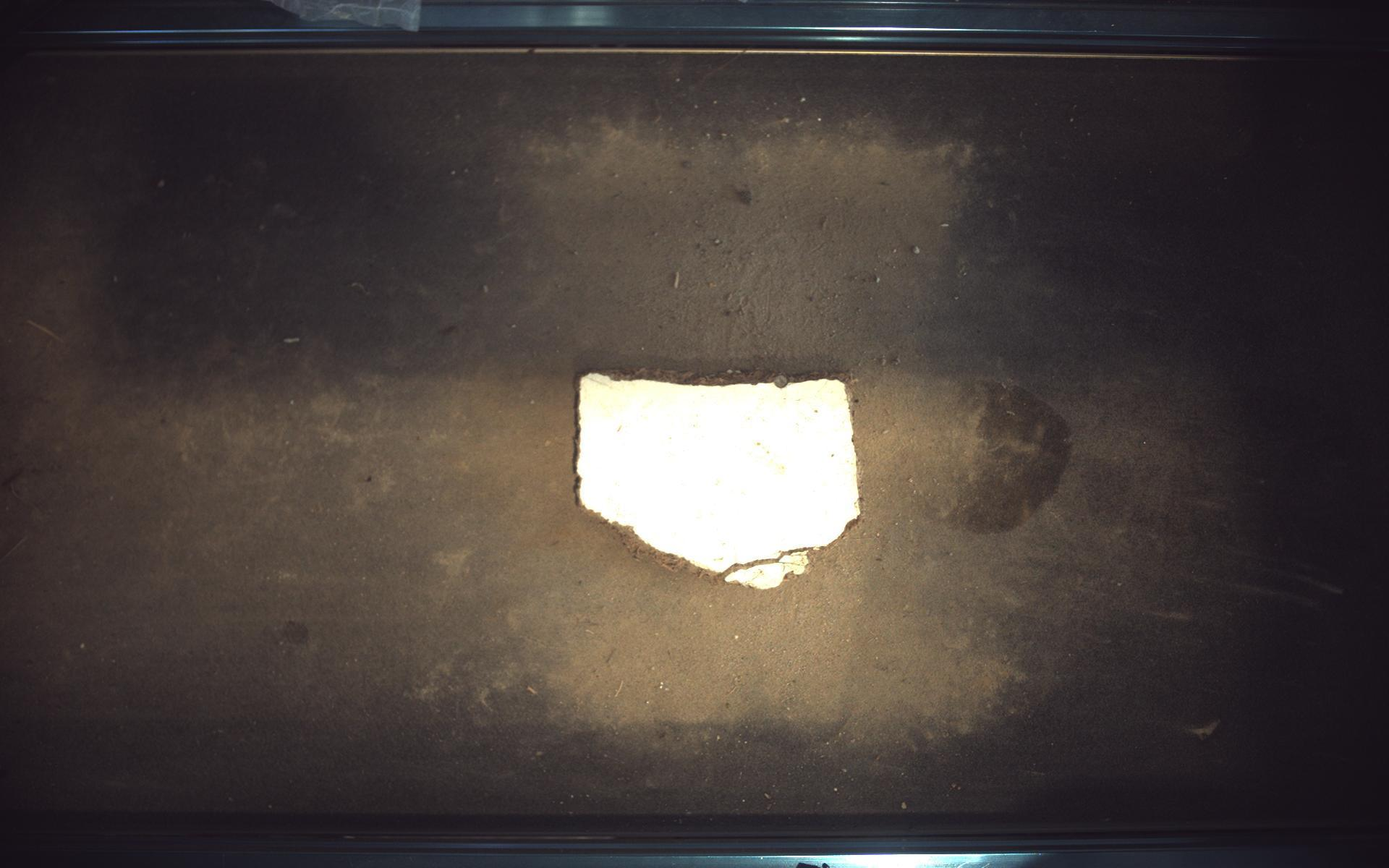wood: (577, 373, 861, 590)
